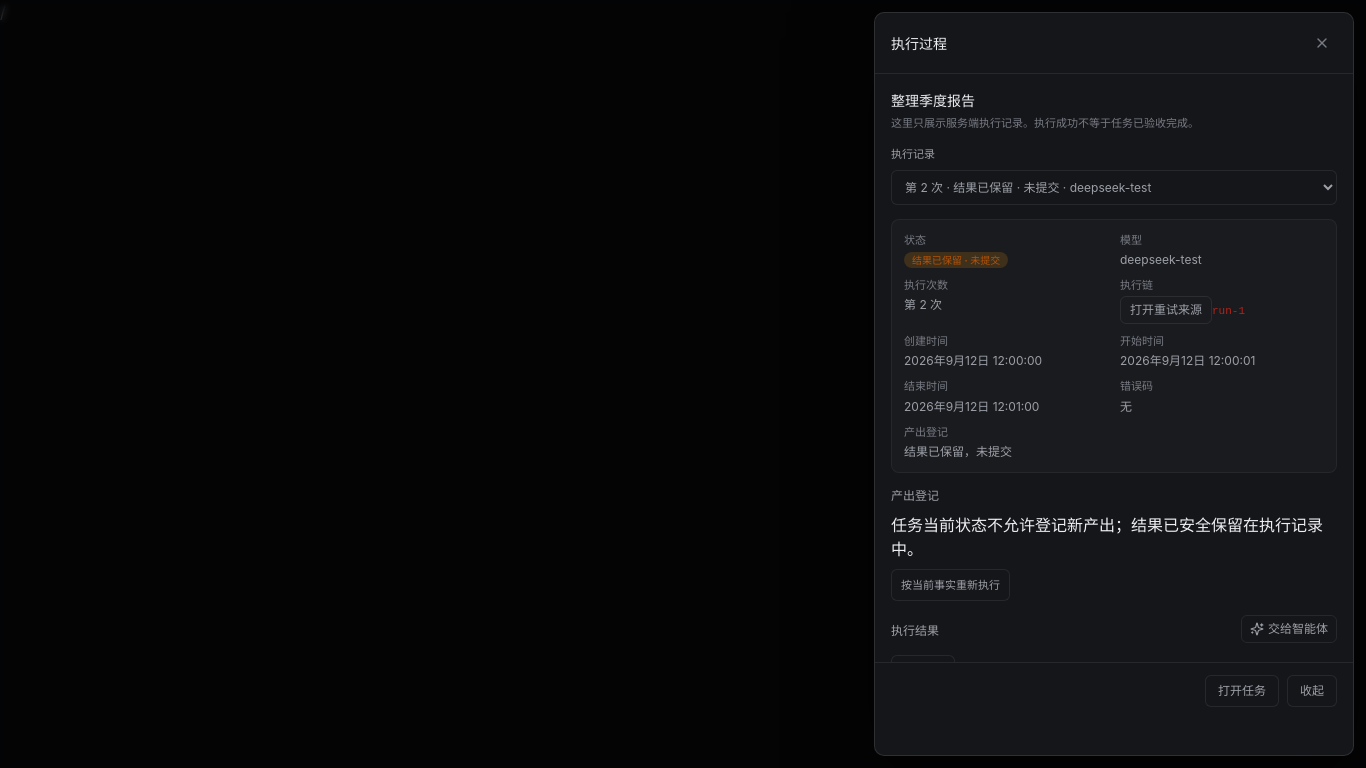
AgentRunDrawer › selects a historical run and shows its error instead of another run's result
Select "第 1 次 · 执行失败 · deepseek-test" in the dropdown labelled "执行记录": (1114,187) [891,170,1337,204]
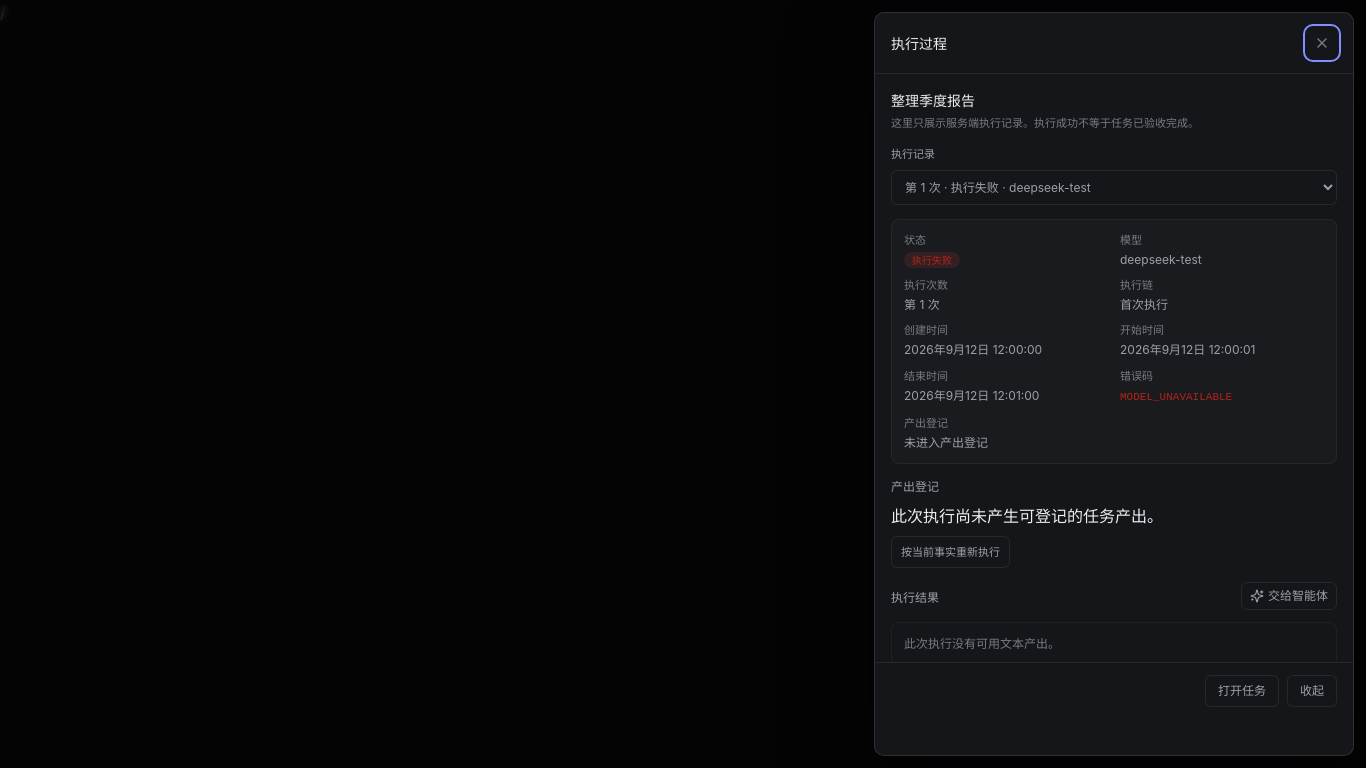
Check: the button "下载文本" is not shown
Check: the text "MODEL_UNAVAILABLE" is shown, box [1120,391,1232,403]
Check: the text "此次执行没有可用文本产出。" is shown, box [891,622,1337,662]
